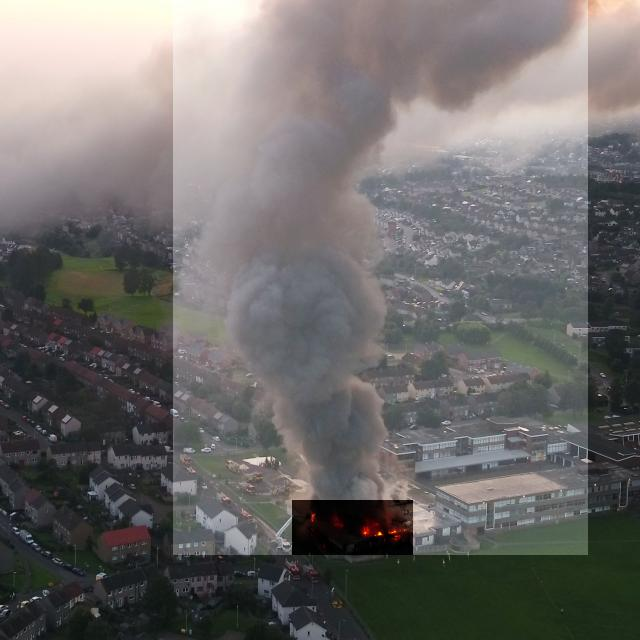Fire: (292, 500, 413, 555)
Smoke: (173, 0, 588, 555)
